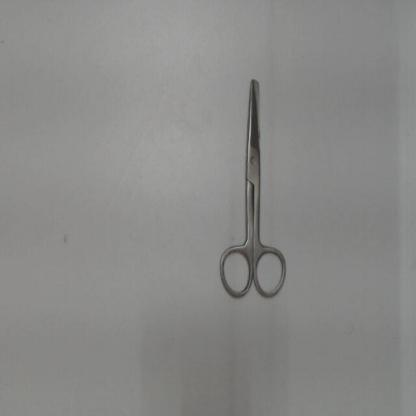Dressing Scissors: (209, 60, 296, 308)
